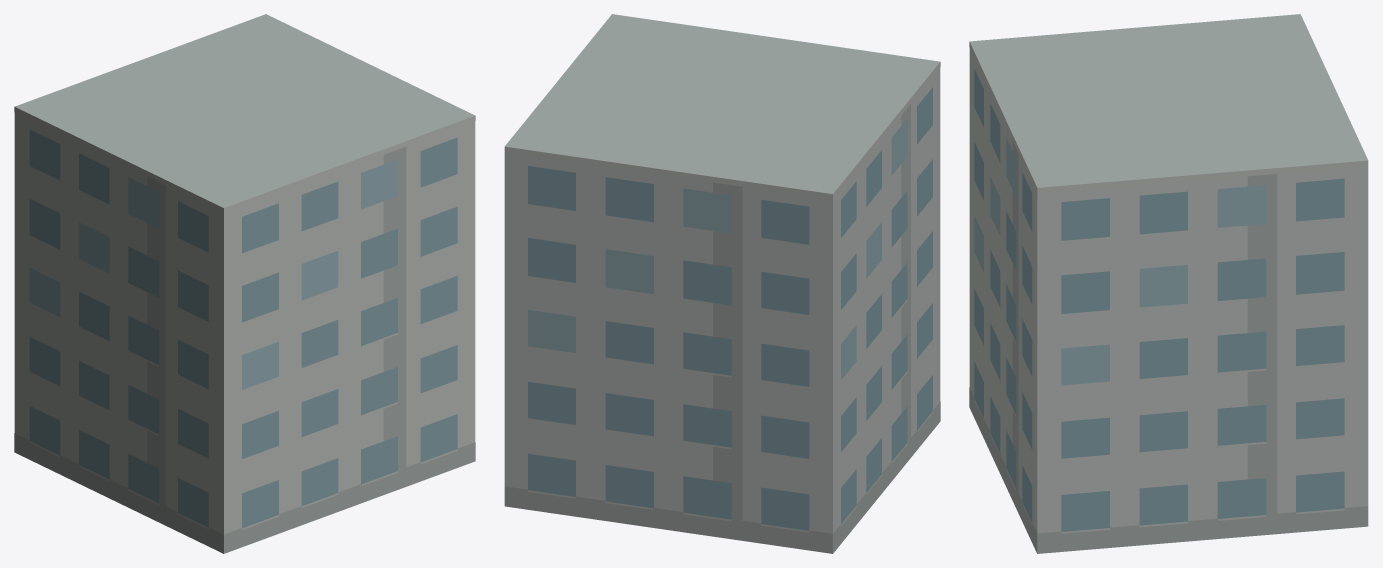
Rendered from residential-f516ee75-ebac-4597-b652-757c111f74ef.glb.
3 renders of one model, left to right at view 1: azimuth 30°, elevation 25°; view 2: azimuth 150°, elevation 25°; view 3: azimuth 270°, elevation 25°, orthographic. The views are drawn at different scales.
Visible parts, largest first — view 1: residential-f516ee75-ebac-4597-b652-757c111f74ef.tmp; view 2: residential-f516ee75-ebac-4597-b652-757c111f74ef.tmp; view 3: residential-f516ee75-ebac-4597-b652-757c111f74ef.tmp.
Boxes of the visible parts, x1=… form: residential-f516ee75-ebac-4597-b652-757c111f74ef.tmp: x1=14, y1=14, x2=475, y2=553; residential-f516ee75-ebac-4597-b652-757c111f74ef.tmp: x1=504, y1=14, x2=940, y2=553; residential-f516ee75-ebac-4597-b652-757c111f74ef.tmp: x1=969, y1=14, x2=1368, y2=553.
Bounding box in the file's own units: 15.54 × 15.25 × 15.07.
